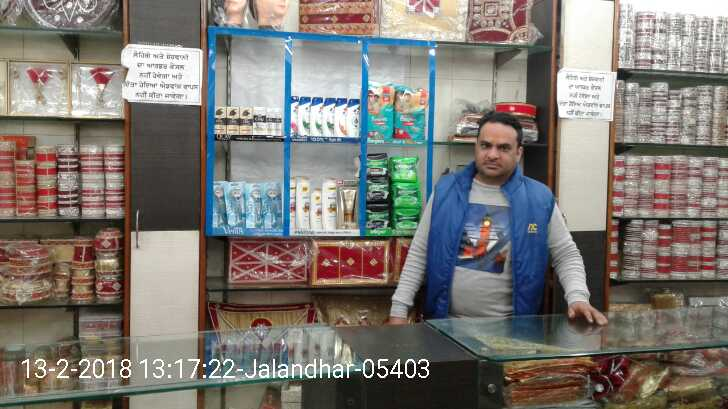venus: (245, 183, 264, 229), (264, 182, 282, 229), (228, 183, 245, 224), (213, 180, 227, 225)
